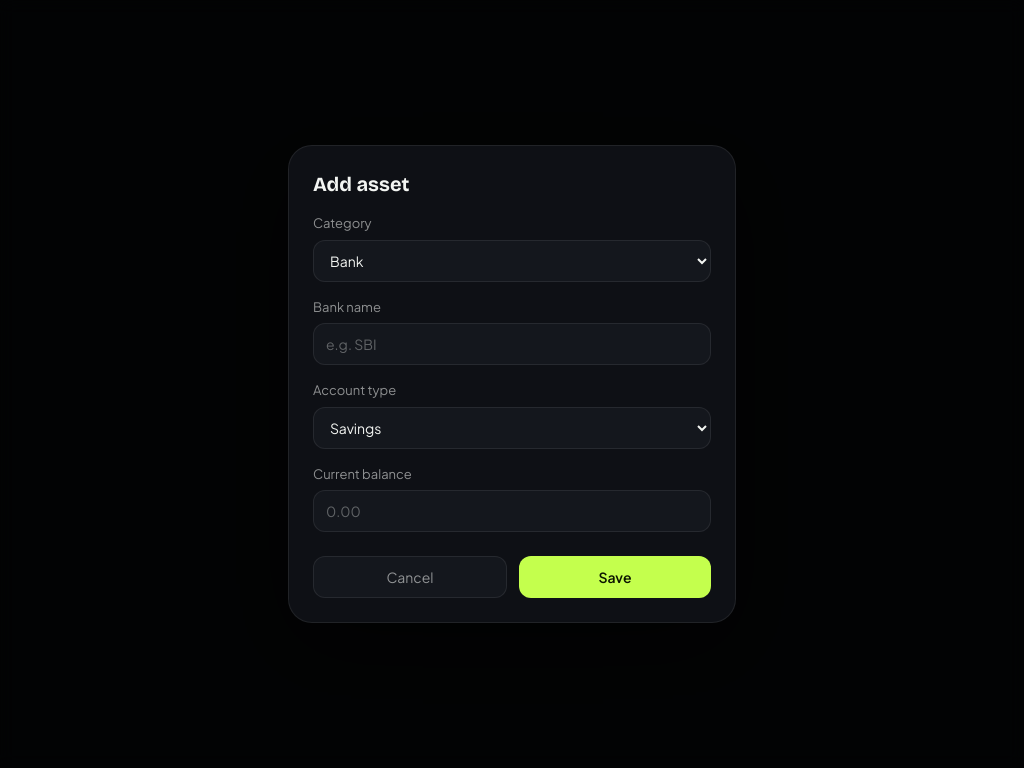
Test: AssetForm › shows quantity for crypto and hides account type
This screenshot has width=1024, height=768.
Select "Crypto" in the dropdown showing "Bank": [512, 260] box x1=313 y1=240 x2=711 y2=282
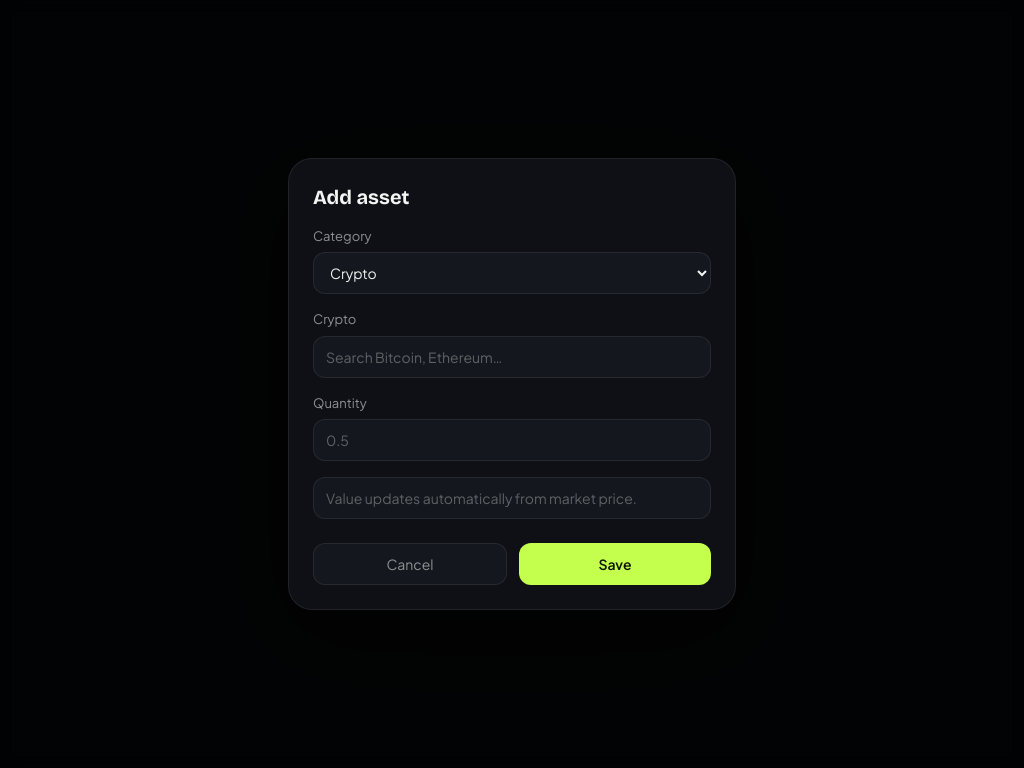
Check: the text "Quantity" is shown, box x1=313 y1=395 x2=367 y2=411
Check: the text "Account type" is gone
